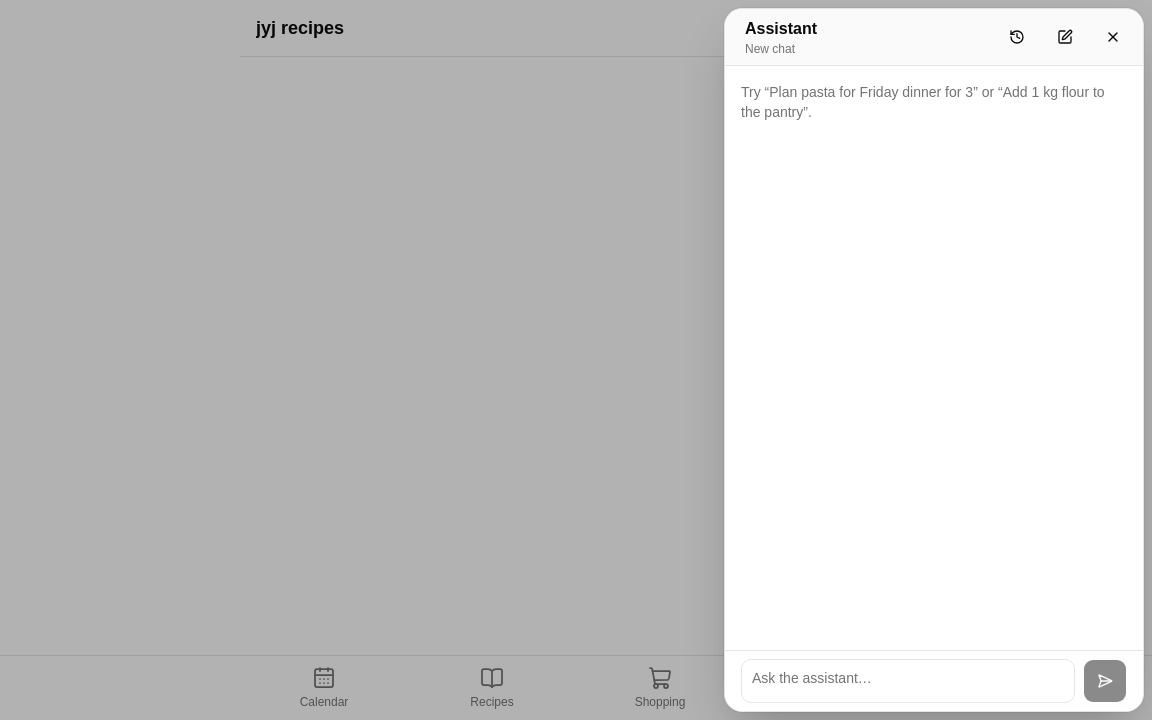
it: chat › renders a stream error as a system bubble and retries the last message
Type "What is for dinner?" into the text box named "Message" at (908, 681), box [741, 659, 1075, 703]
Then press Enter
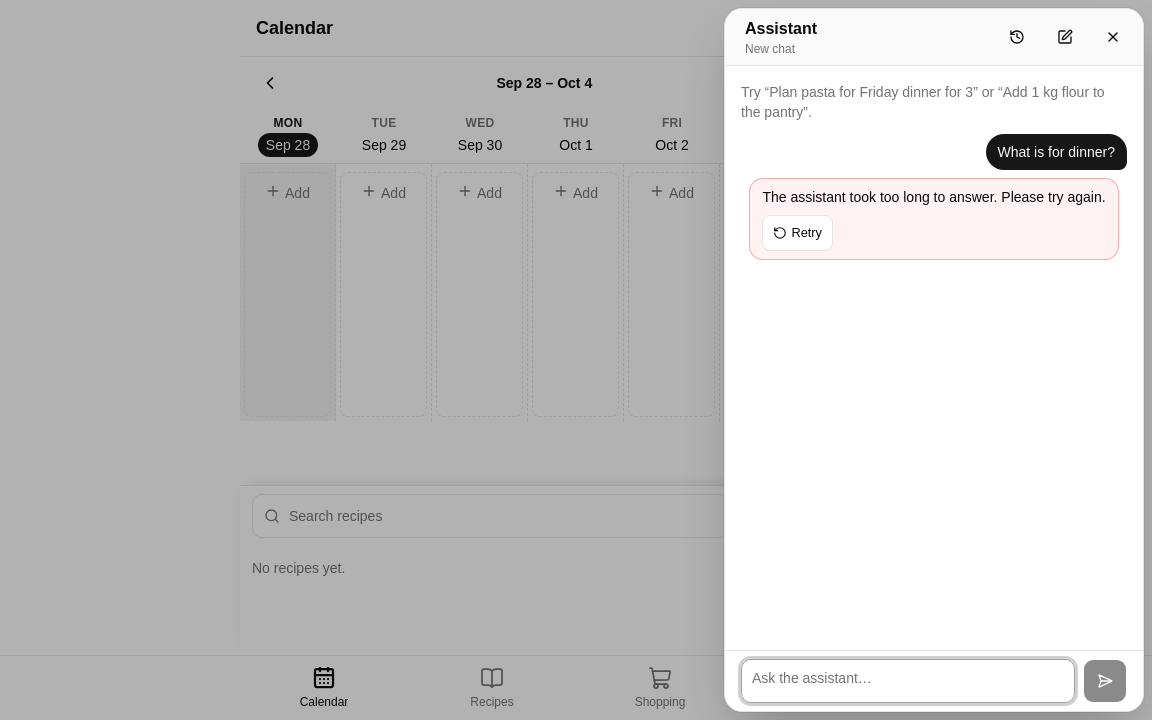
Now the message shows "The assistant took too long to answer.", box [762, 189, 1106, 205]
Click the button "Retry" at (798, 233), box [762, 215, 833, 251]
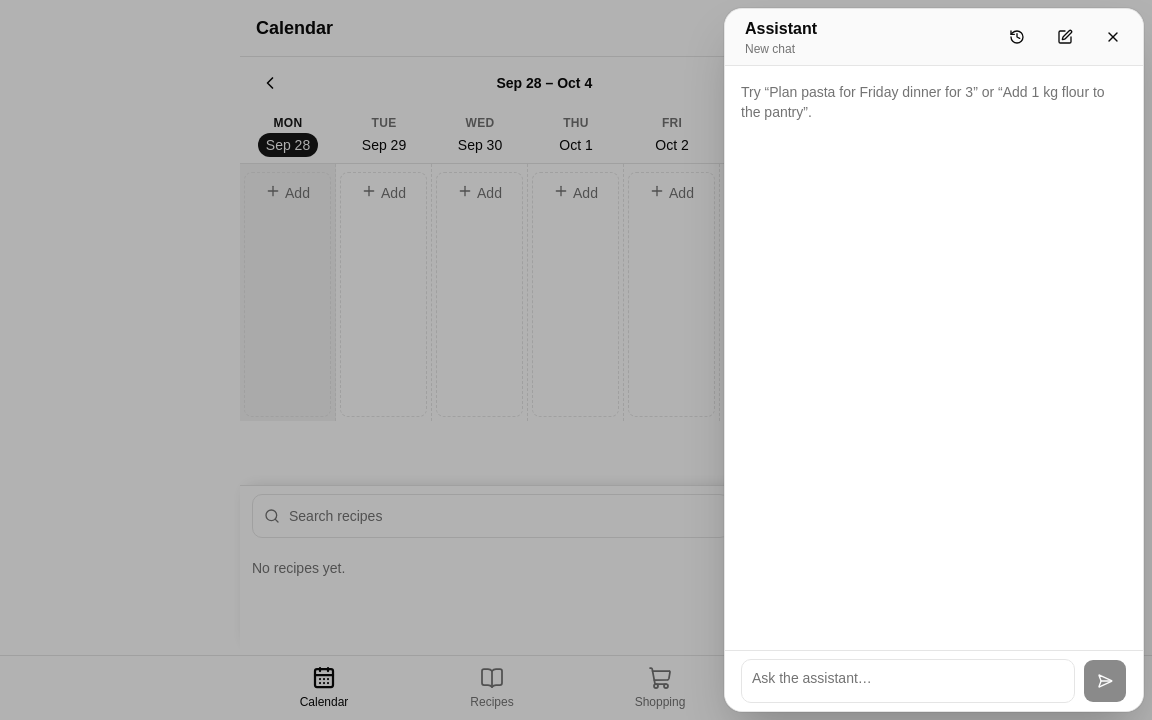
Now the message "The assistant took too long to answer. Please try again. Retry" is gone
